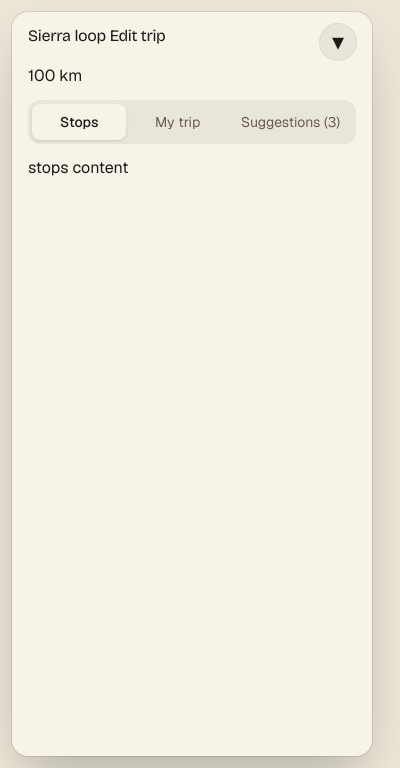
Test: StopsPanel › shows the trip panel on My trip
Click the tab "My trip" at (178, 122), box [130, 104, 225, 140]
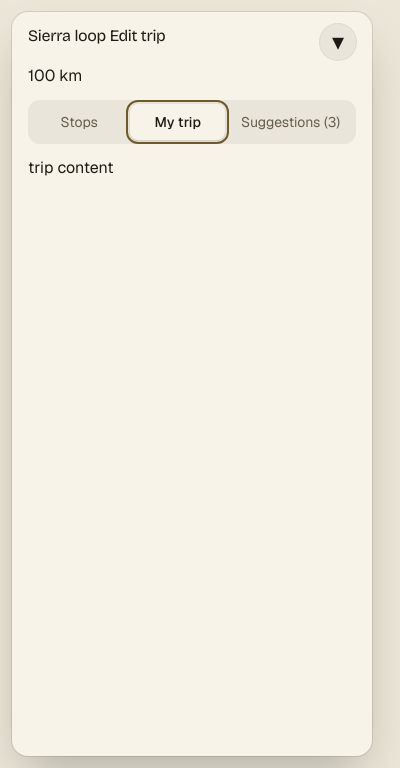
expect the text "trip content" is shown: met, box [28, 157, 114, 178]
expect the text "stops content" is gone: met
